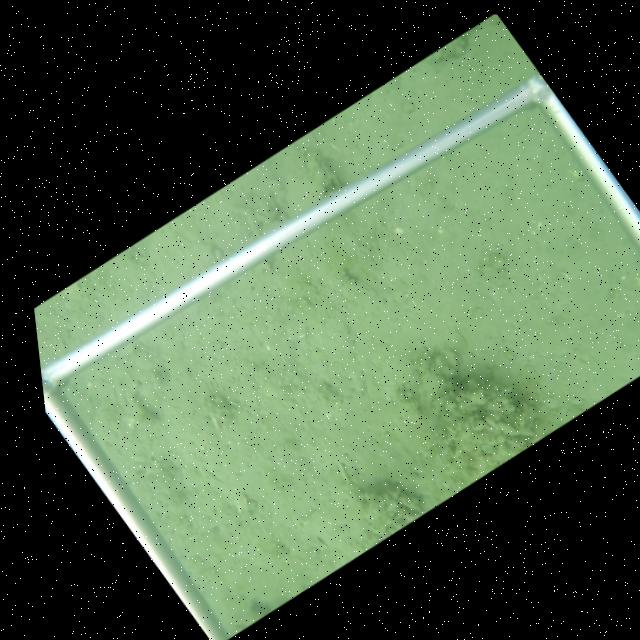Oyster-Indeterminate: (301, 151, 349, 196)
